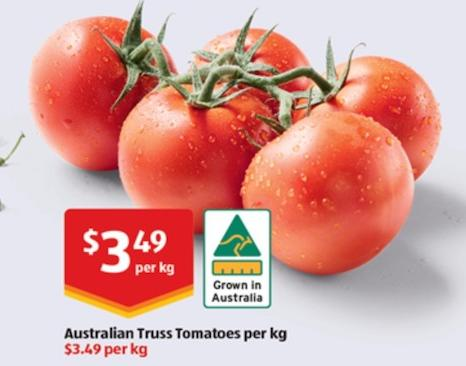description_block: (57, 319, 293, 346)
price_main: (51, 198, 201, 319)
product_image_block: (42, 13, 430, 229)
unit_price_block: (60, 341, 154, 361)
